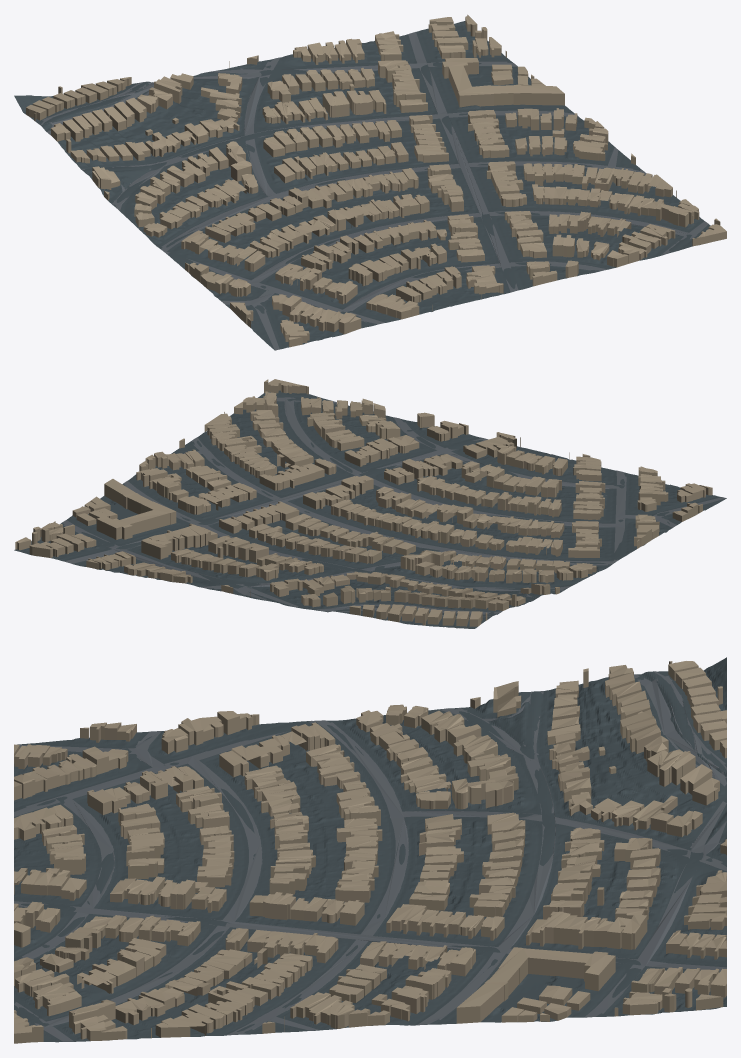
Rendered from epsg26910-1431-10869.lod0.glb.
The picture shows the model from 3 angles, top to bottom: view 1: azimuth 30°, elevation 25°; view 2: azimuth 150°, elevation 25°; view 3: azimuth 270°, elevation 25°; orthographic projection. The views are drawn at different scales.
Visible parts, largest first — view 1: epsg26910-1431-10869-lod0; view 2: epsg26910-1431-10869-lod0; view 3: epsg26910-1431-10869-lod0.
Part boxes in pixels (bbox=[...]): epsg26910-1431-10869-lod0: bbox=[14, 14, 726, 350]; epsg26910-1431-10869-lod0: bbox=[14, 379, 726, 628]; epsg26910-1431-10869-lod0: bbox=[14, 657, 726, 1043].
Bounding box in the file's own units: 384 × 52.74 × 384.
